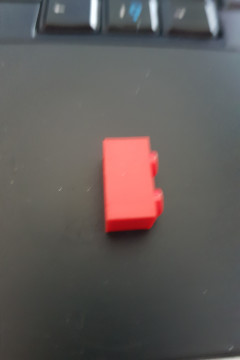1x2 red: (102, 135, 165, 233)
